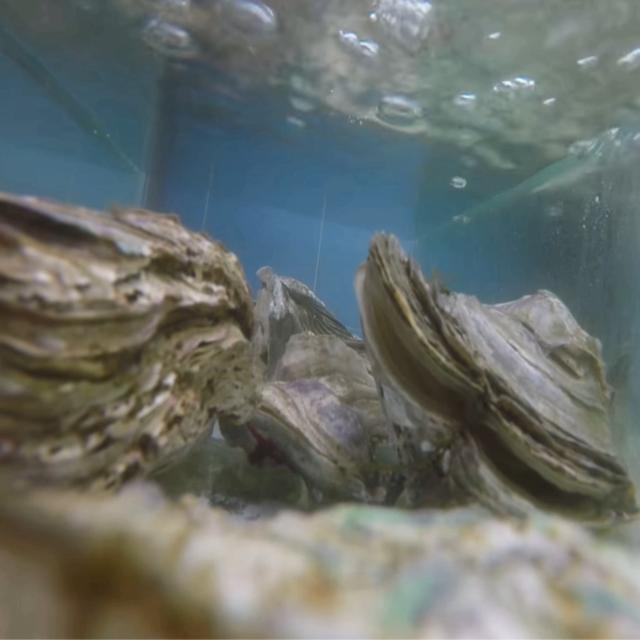Oyster-Closed: (0, 192, 257, 526), (251, 335, 412, 507)
Oyster-Indeterminate: (0, 482, 640, 640)
Oyster-Open: (356, 232, 640, 541)
